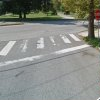crosswalk: (0, 33, 81, 55)
